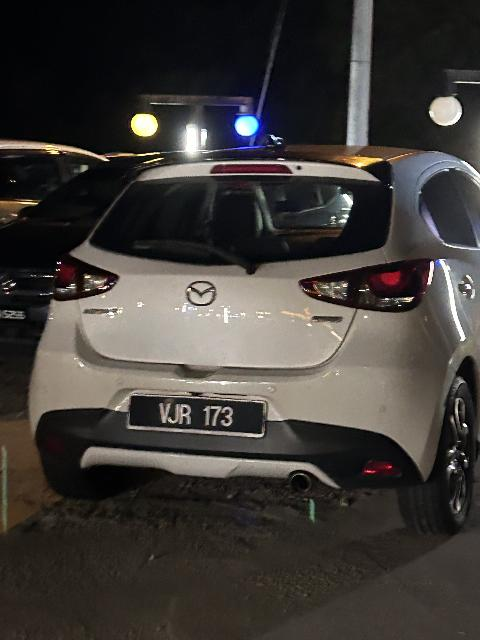License_Plate: (129, 396, 267, 441)
car: (27, 139, 480, 539)
